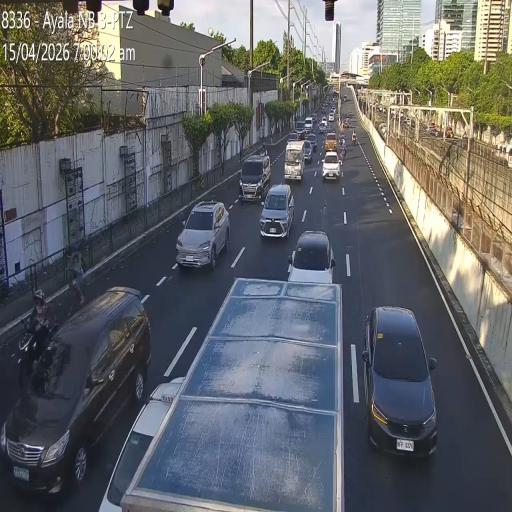Car: (2, 286, 150, 496), (93, 378, 186, 508), (362, 305, 437, 455), (174, 199, 230, 270), (287, 228, 336, 285), (260, 181, 295, 237), (238, 150, 271, 202), (284, 139, 306, 179), (322, 150, 341, 180), (324, 131, 338, 151), (302, 139, 313, 162), (306, 132, 318, 152), (286, 132, 300, 146)
Motor: (18, 288, 60, 374), (66, 250, 88, 312)
Not Accident: (96, 372, 200, 512), (234, 141, 295, 244), (286, 132, 314, 183), (302, 128, 316, 162), (284, 128, 300, 150)
